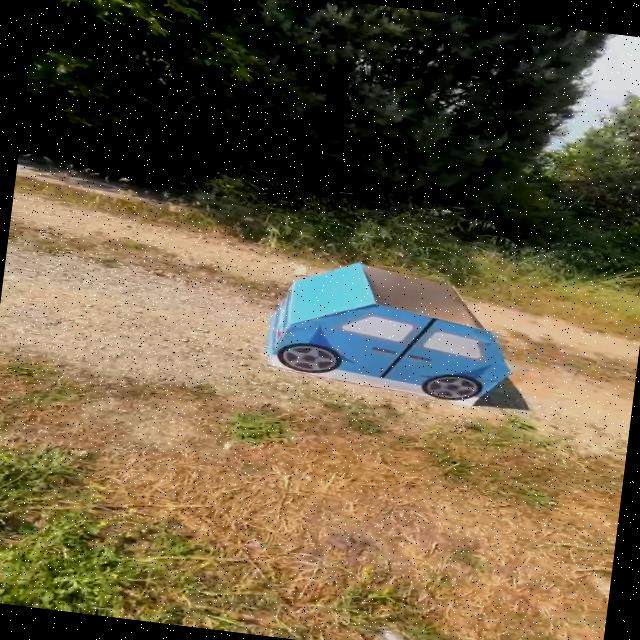blue_car: (233, 237, 547, 427)
